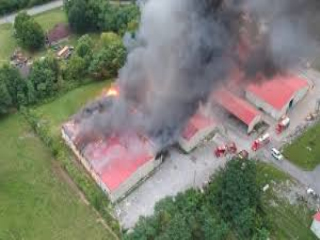fire: (102, 86, 118, 96)
smoke: (54, 4, 254, 150)
